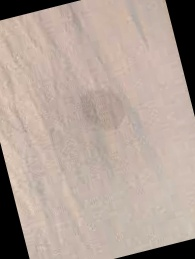oil: (69, 80, 131, 140)
